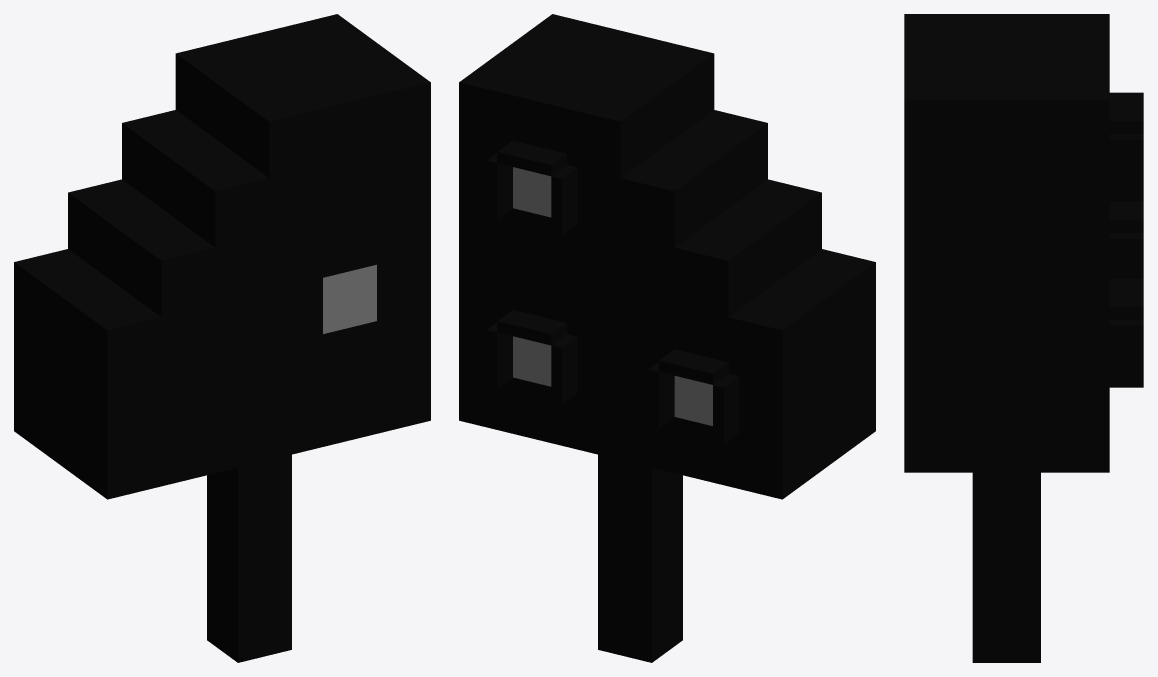
File: ch_zwergsignal_head.obj
3 views of the same model, side by side, from view 1: azimuth 30°, elevation 25°; view 2: azimuth 150°, elevation 25°; view 3: azimuth 270°, elevation 25° (orthographic). The views are drawn at different scales.
Visible parts, largest first — view 1: cube, white_back_1; view 2: cube, bottom_5, bottom_4, bottom_3, bottom_10, bottom_12, bottom_11, white_top_1, white_bottom_1, white_bottom_2, bottom_6; view 3: cube, bottom_5, bottom_6, bottom_4, bottom_11, bottom_12, bottom_10.
Boxes of the visible parts, x1,y1,x2,y2 form: cube: (14,14,430,662); white_back_1: (323,264,376,333); cube: (459,14,875,662); bottom_5: (486,165,577,388); bottom_4: (551,334,674,427); bottom_3: (713,373,739,443); bottom_10: (659,349,728,384); bottom_12: (497,140,566,176); bottom_11: (497,310,566,345); white_top_1: (513,167,551,217); white_bottom_1: (513,336,551,386); white_bottom_2: (674,376,712,425); bottom_6: (486,153,512,219); cube: (904,14,1109,662); bottom_5: (1109,320,1143,387); bottom_6: (1109,134,1143,201); bottom_4: (1109,233,1143,278); bottom_11: (1109,278,1143,319); bottom_12: (1109,92,1143,133); bottom_10: (1109,201,1143,232).
Size of the model in its own units: 0.375 by 0.625 by 0.2188.
